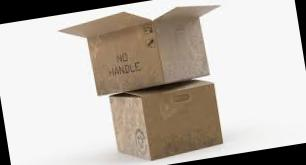Kertas: (60, 4, 218, 94), (106, 76, 224, 165), (110, 80, 222, 159)
